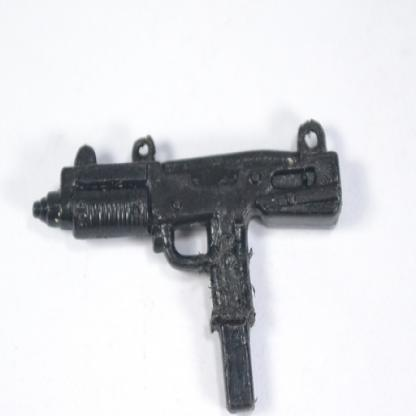gun: (30, 117, 343, 414)
